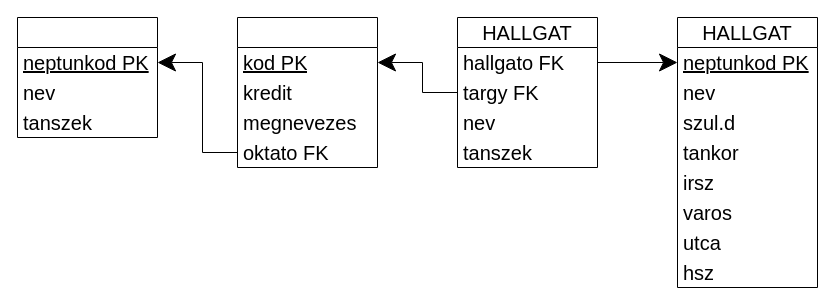
Some shapes in this 835 by 305 pixel diagram are drawn without their labels. The shapes that lost their labels are listed below. From the top down, each one's box as (x1, y1, x2, y2) in pixels, then its label:
(16, 16, 158, 138): OKTATO
(236, 16, 378, 168): TARGY
